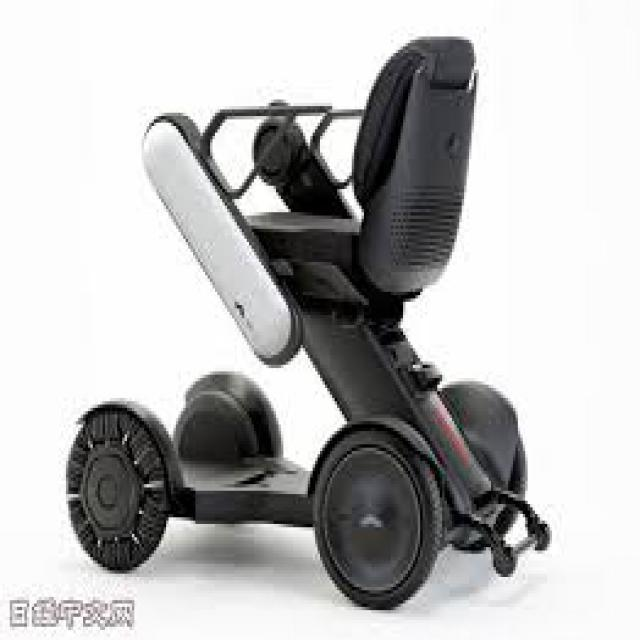wheelchair: (22, 10, 567, 584)
